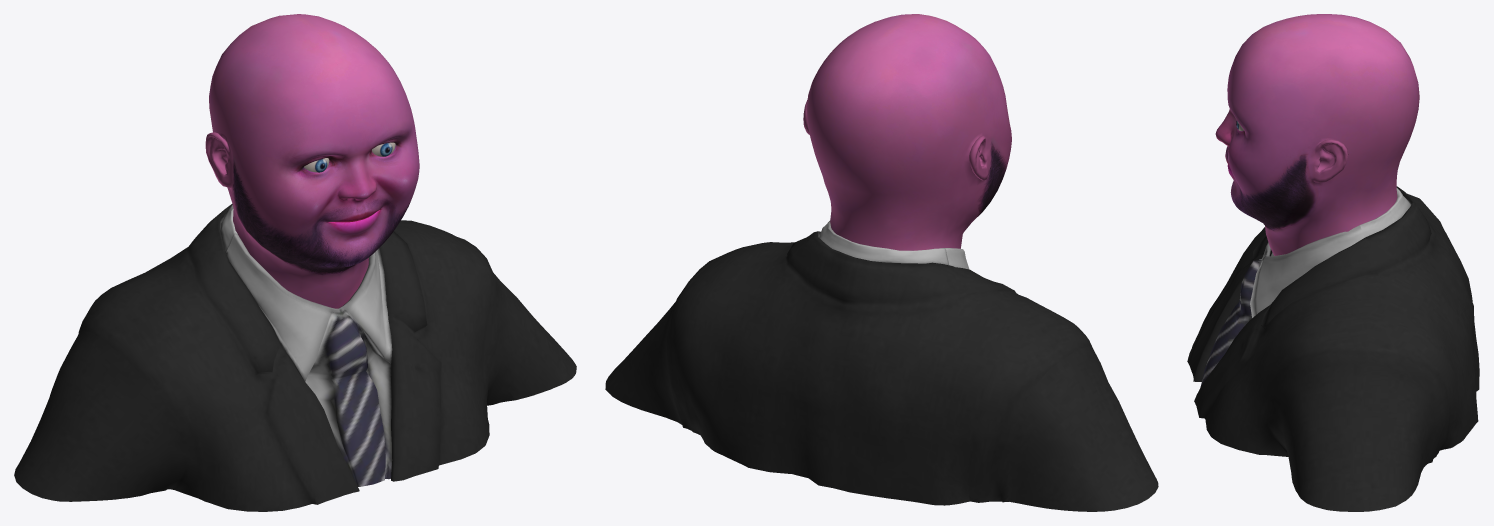
3 renders of one model, left to right at view 1: azimuth 30°, elevation 25°; view 2: azimuth 150°, elevation 25°; view 3: azimuth 270°, elevation 25°, orthographic. The views are drawn at different scales.
Visible parts, largest first — view 1: mesh0.dat; view 2: mesh0.dat; view 3: mesh0.dat.
Boxes of the visible parts, <box> form: mesh0.dat: <box>14,14,576,511</box>; mesh0.dat: <box>605,14,1158,511</box>; mesh0.dat: <box>1187,14,1479,511</box>.
Size of the model in its own units: 0.5099 by 0.3653 by 0.2619.
Materials: 3 (3 with a texture image).
